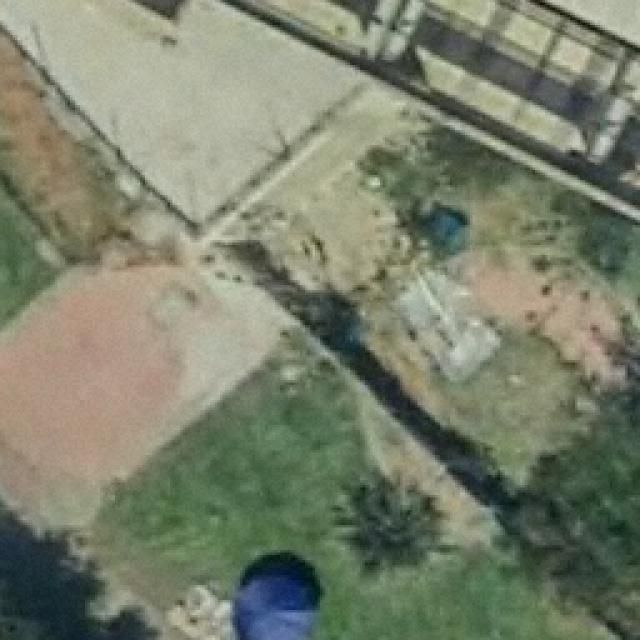vendedor_ambulante: (230, 572, 327, 640)
